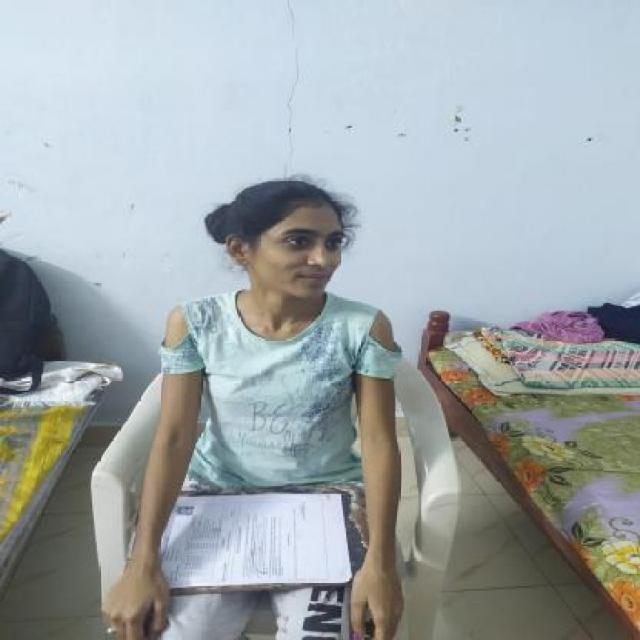cheating: (103, 169, 425, 591)
